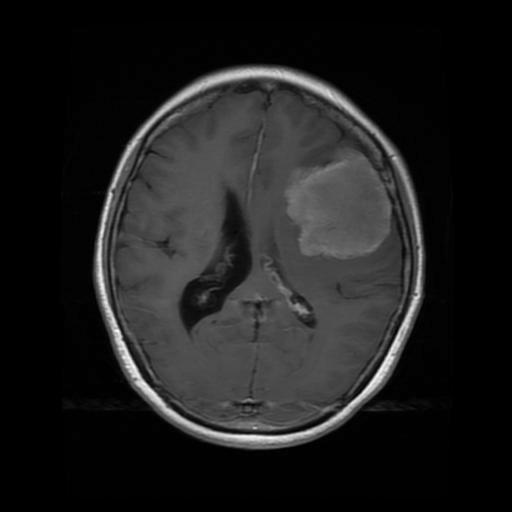Tumour-Meningioma: (271, 142, 398, 289)
